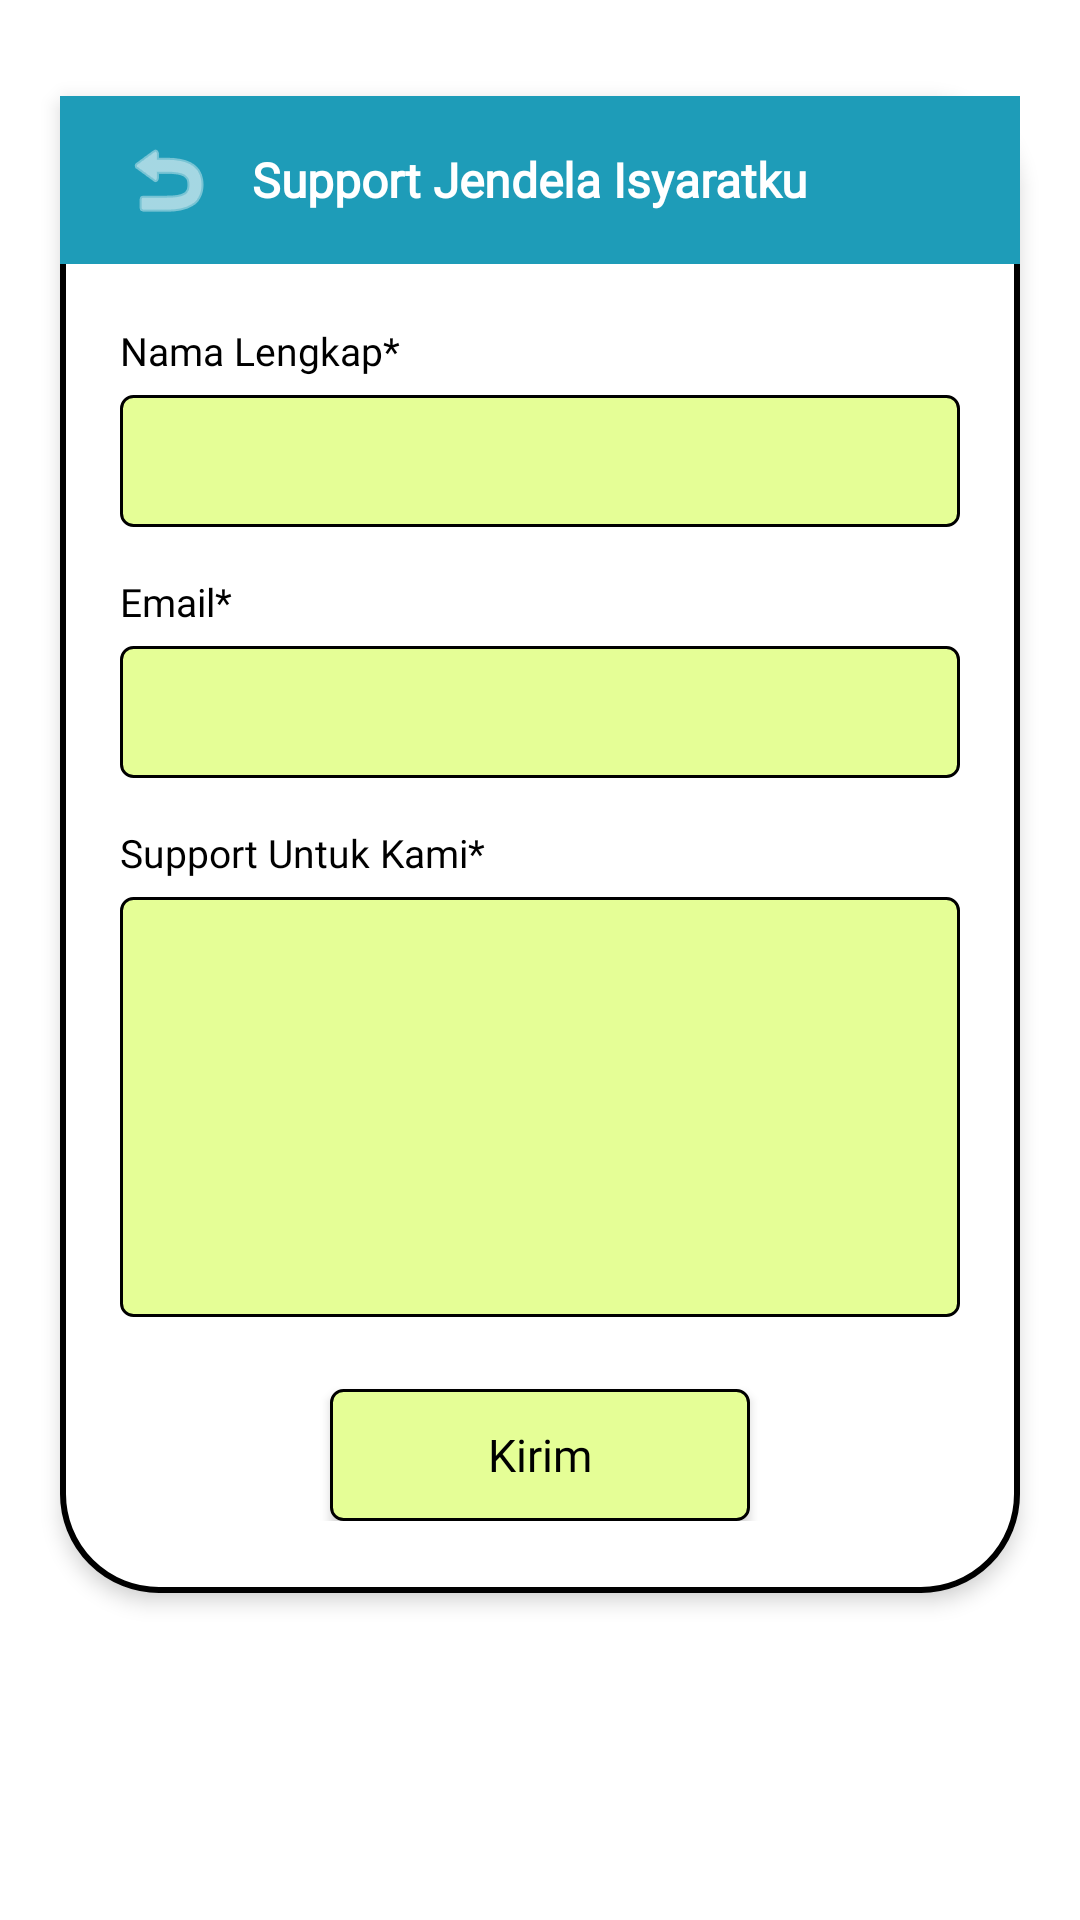

Where to tap for icons on this 1080px×1920px app screen, as point (x, y):
Kembali: point (169, 180)
